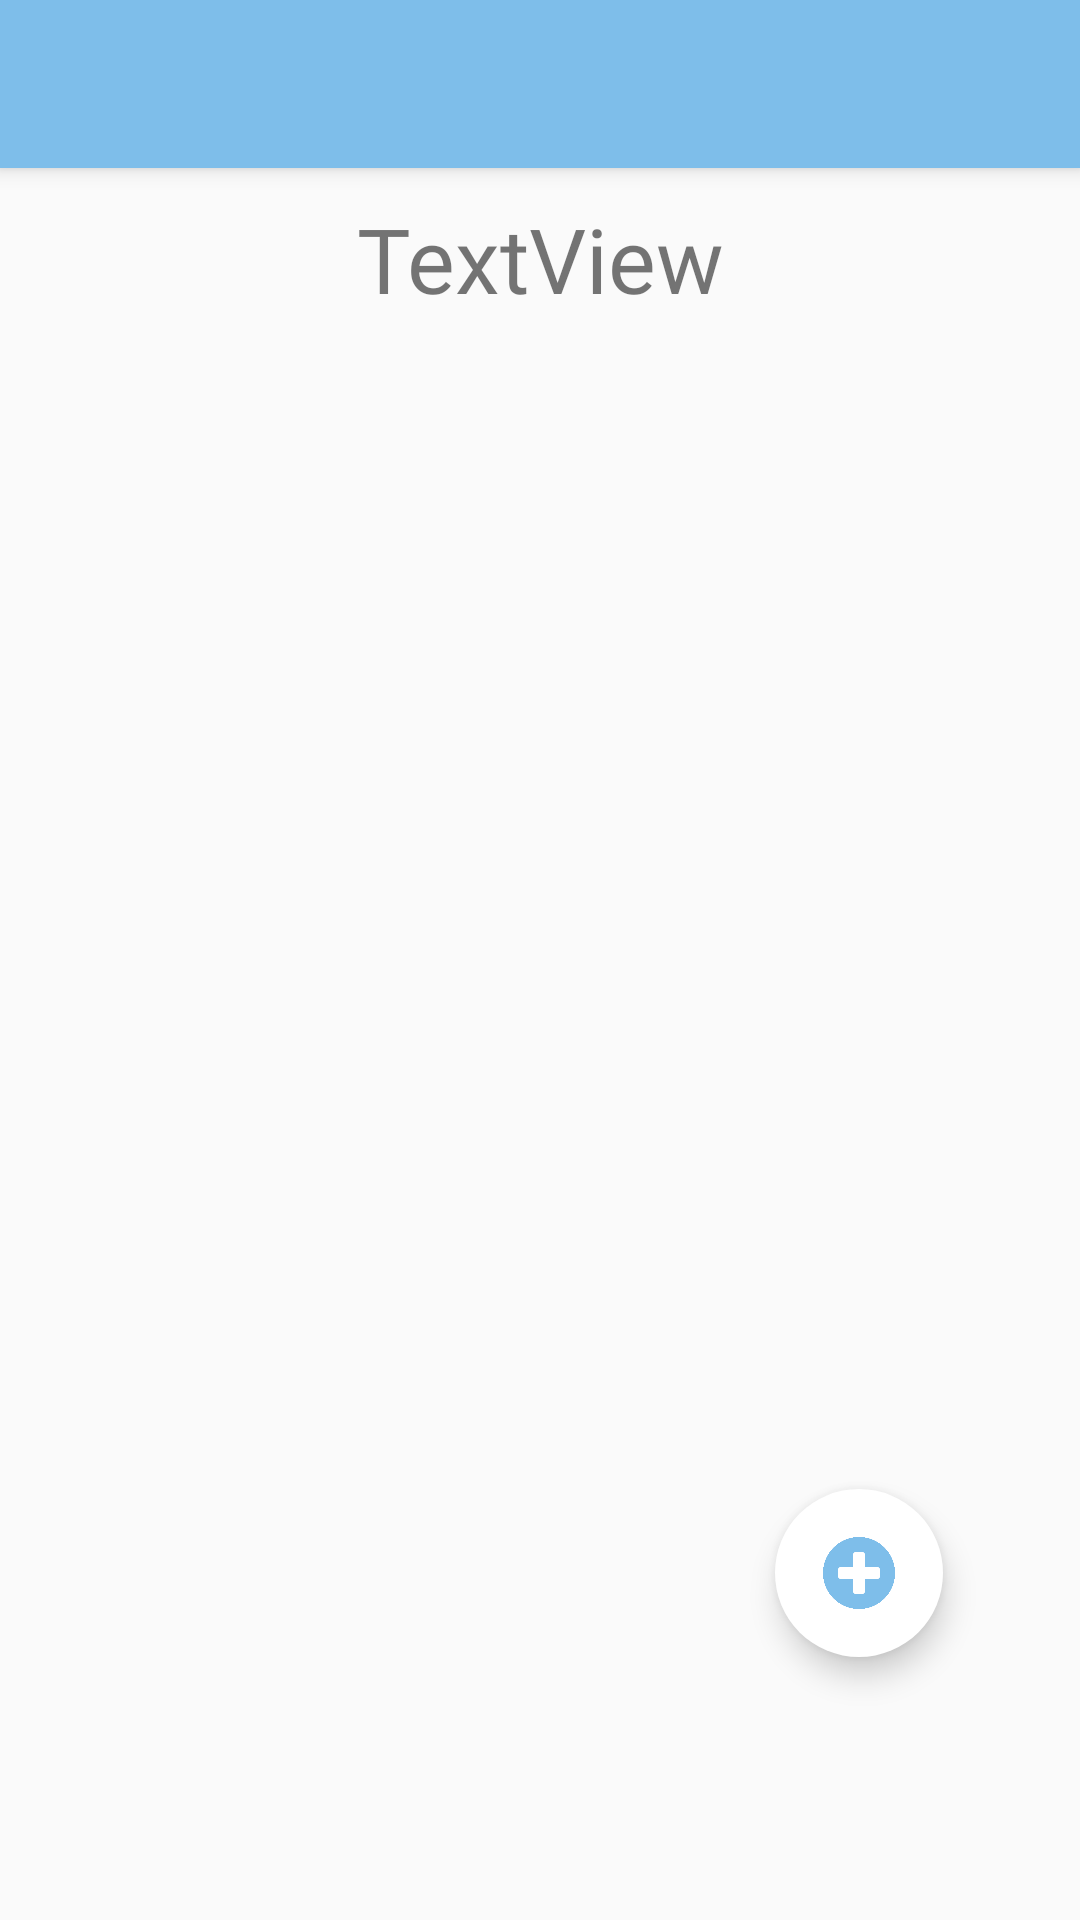

Icons on this 1080 × 1920 Android screen, each with the point to tap as point (x, y):
add: point (836, 1573)
